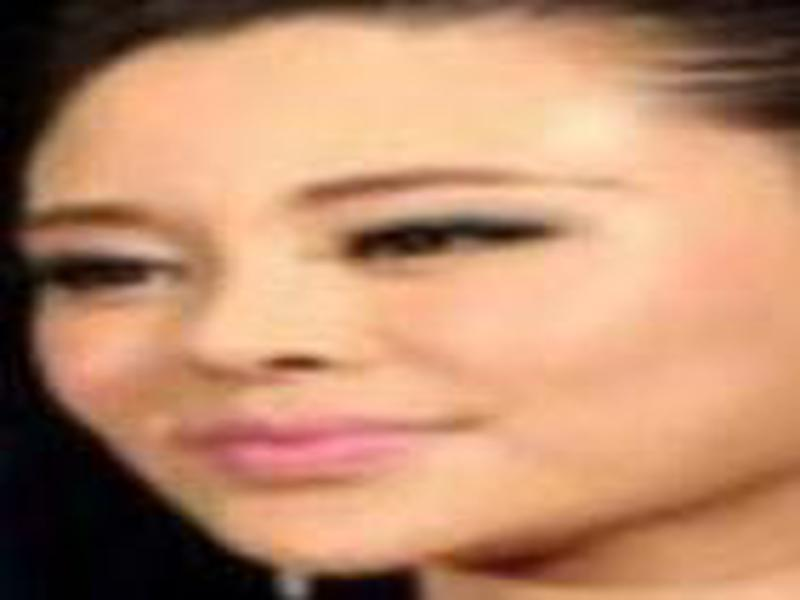without_mask: (19, 33, 789, 576)
